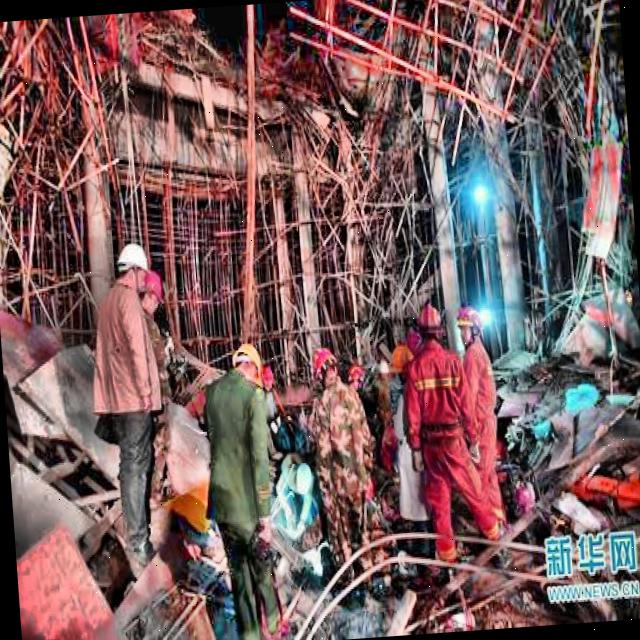helmet: (118, 238, 157, 306), (226, 337, 264, 399), (417, 299, 446, 360), (454, 304, 486, 359), (307, 345, 341, 393), (388, 342, 417, 398), (136, 268, 165, 320)
